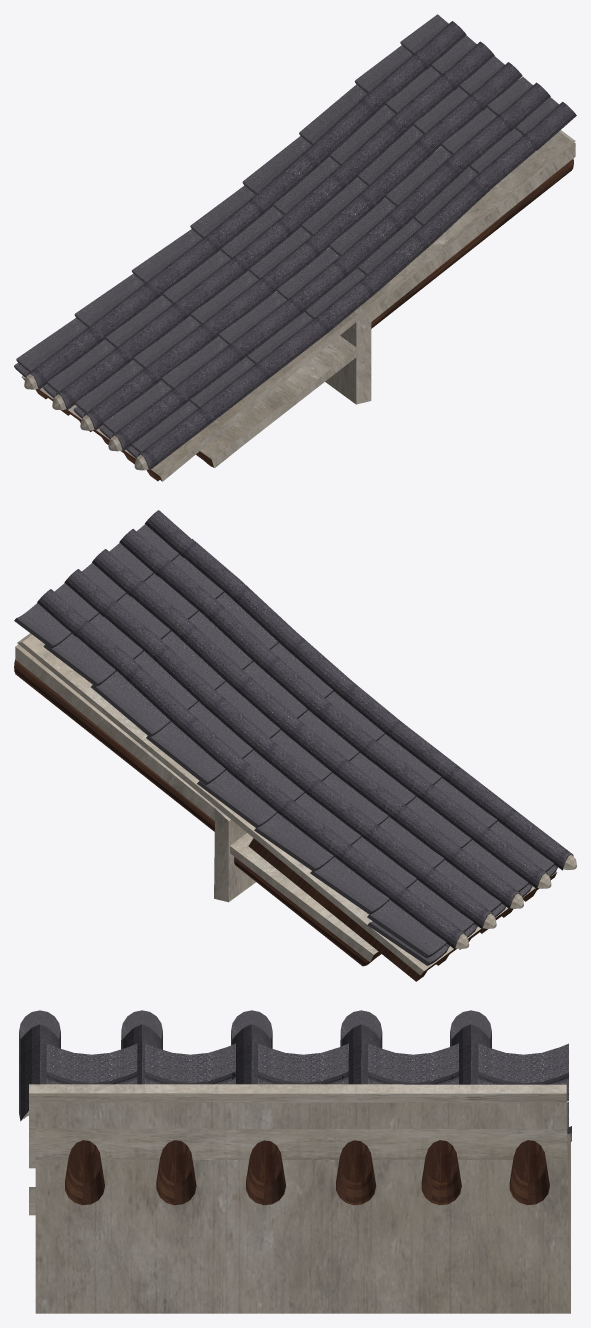
The model's file is SM_Roof_57.fbx.
3 renders of one model, top to bottom at view 1: azimuth 30°, elevation 25°; view 2: azimuth 150°, elevation 25°; view 3: azimuth 270°, elevation 25°, orthographic. The views are drawn at different scales.
Parts seen in each view (by area): view 1: SM_Roof_57; view 2: SM_Roof_57; view 3: SM_Roof_57.
Part boxes in pixels (x1,y1,x2,y2): SM_Roof_57: (14,14,576,481); SM_Roof_57: (14,510,576,981); SM_Roof_57: (19,1010,571,1313).
Size of the model in its own units: 438 by 241 by 272.
Materials: 4 (4 with a texture image).
